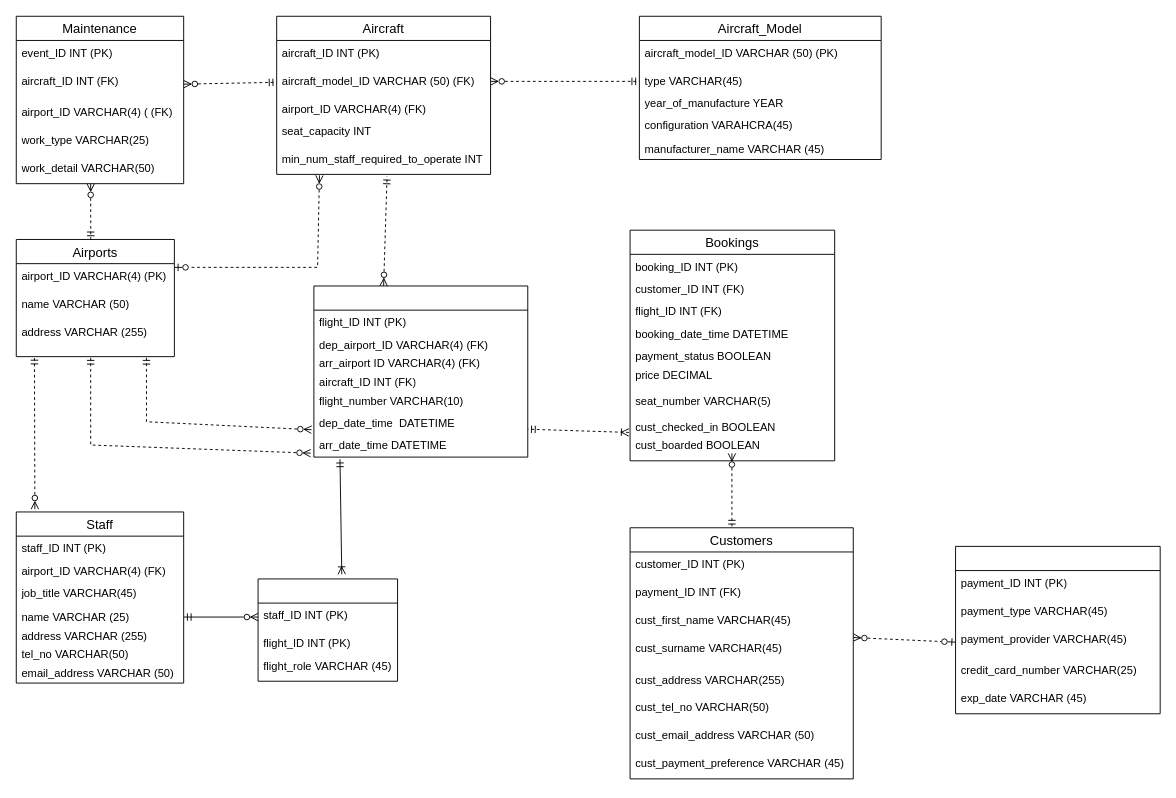
Some shapes in this 1176 by 798 pixel diagram are drawn without their labels. Here are the shapes that lost their labels. From the top down, the box of each, then its label:
(313, 285, 528, 457): Flights
(257, 578, 398, 681): Flight_Staff
(955, 545, 1160, 714): Payment_Methods
